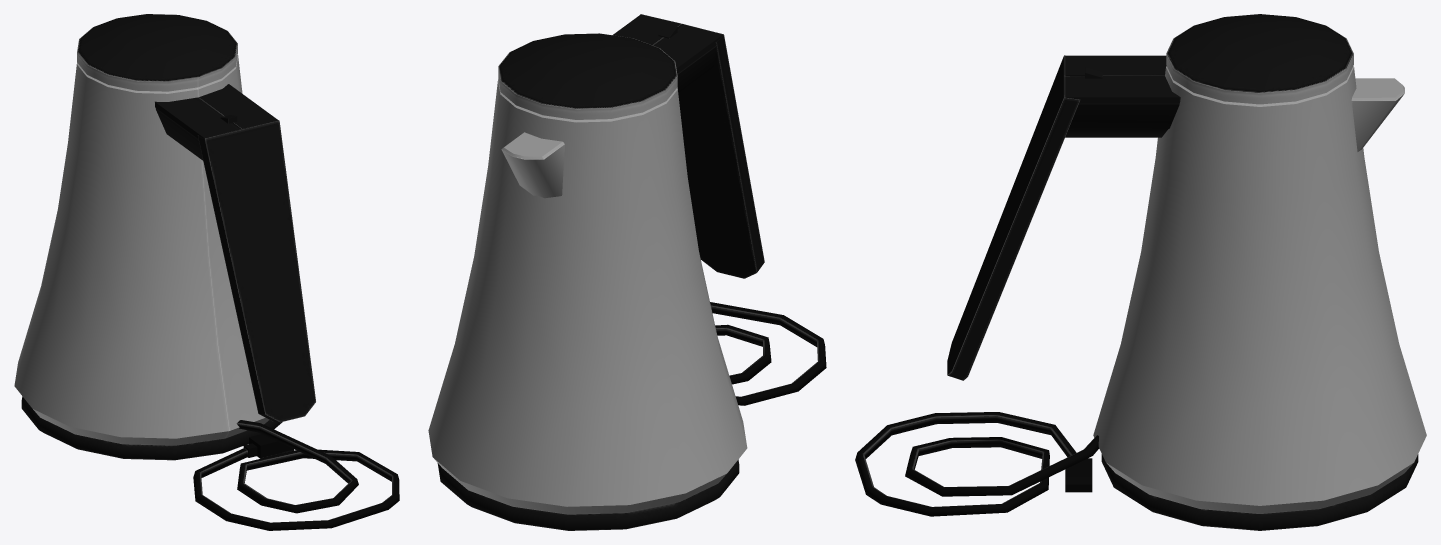
The model's file is HW_Ketle.fbx.
3 renders of one model, left to right at view 1: azimuth 30°, elevation 25°; view 2: azimuth 150°, elevation 25°; view 3: azimuth 270°, elevation 25°, orthographic. The views are drawn at different scales.
Visible parts, largest first — view 1: prop_HW_Ketle; view 2: prop_HW_Ketle; view 3: prop_HW_Ketle.
Part boxes in pixels (bbox=[...]): prop_HW_Ketle: bbox=[14, 14, 399, 530]; prop_HW_Ketle: bbox=[428, 14, 826, 530]; prop_HW_Ketle: bbox=[855, 14, 1426, 530].
Size of the model in its own units: 0.2518 by 0.3555 by 0.4314.
